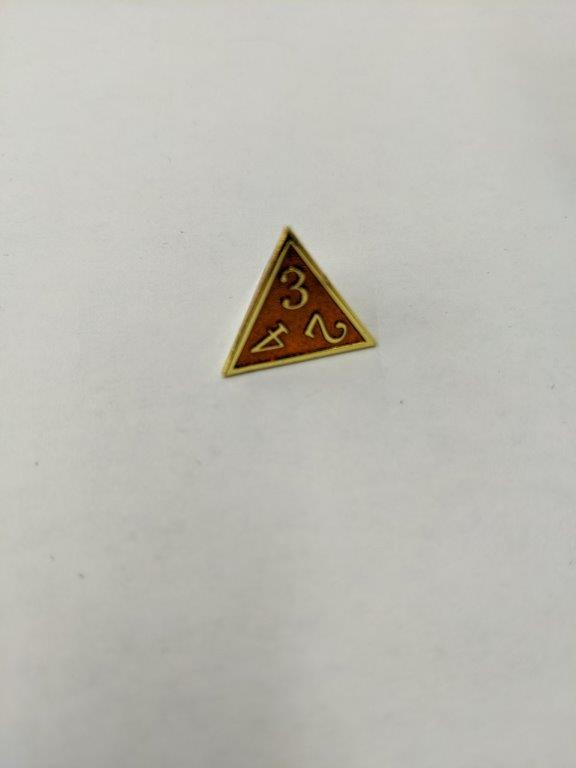d4-3: (216, 222, 381, 381)
